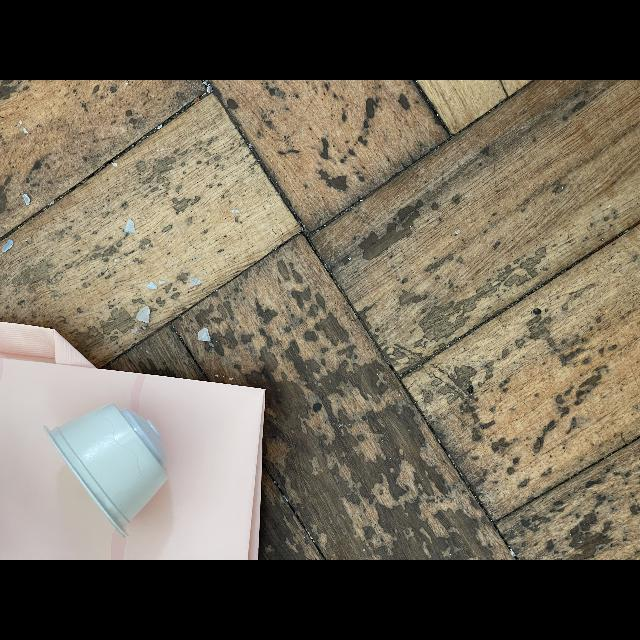intact_capsule: (33, 393, 201, 547)
